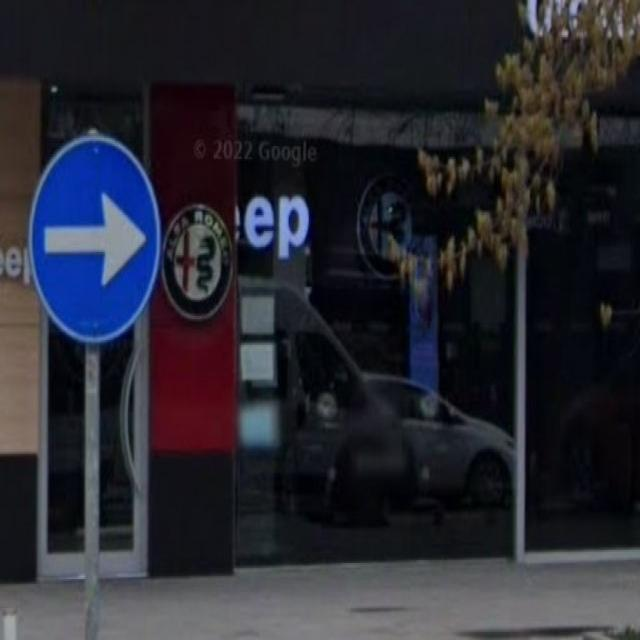Turn Right: (29, 134, 166, 344)
